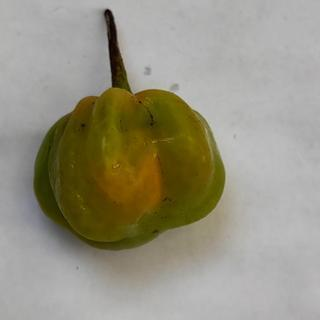Fly-bites: (73, 116, 93, 135), (150, 226, 161, 236)
striped: (136, 99, 159, 128)
